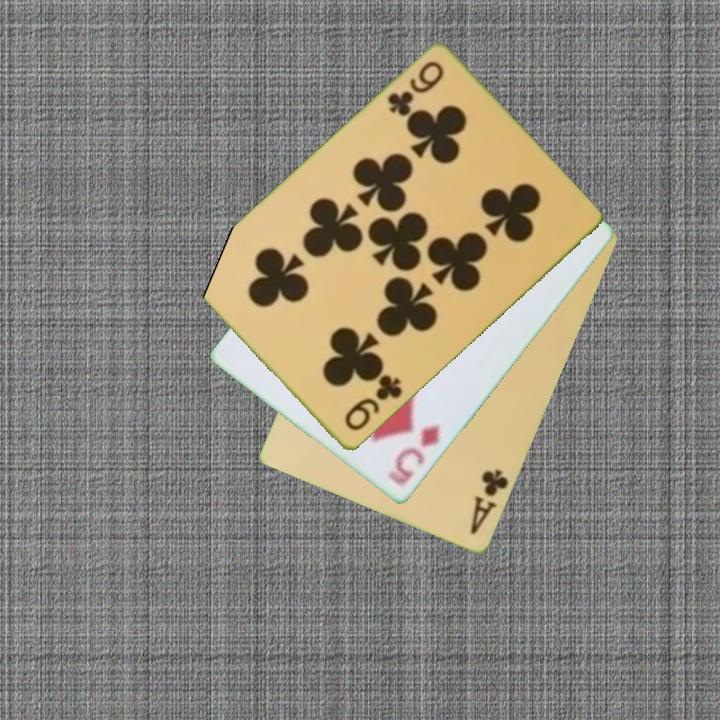5d: (384, 422, 444, 490)
9c: (341, 371, 406, 435), (383, 58, 447, 120)
Ac: (467, 466, 512, 538)
